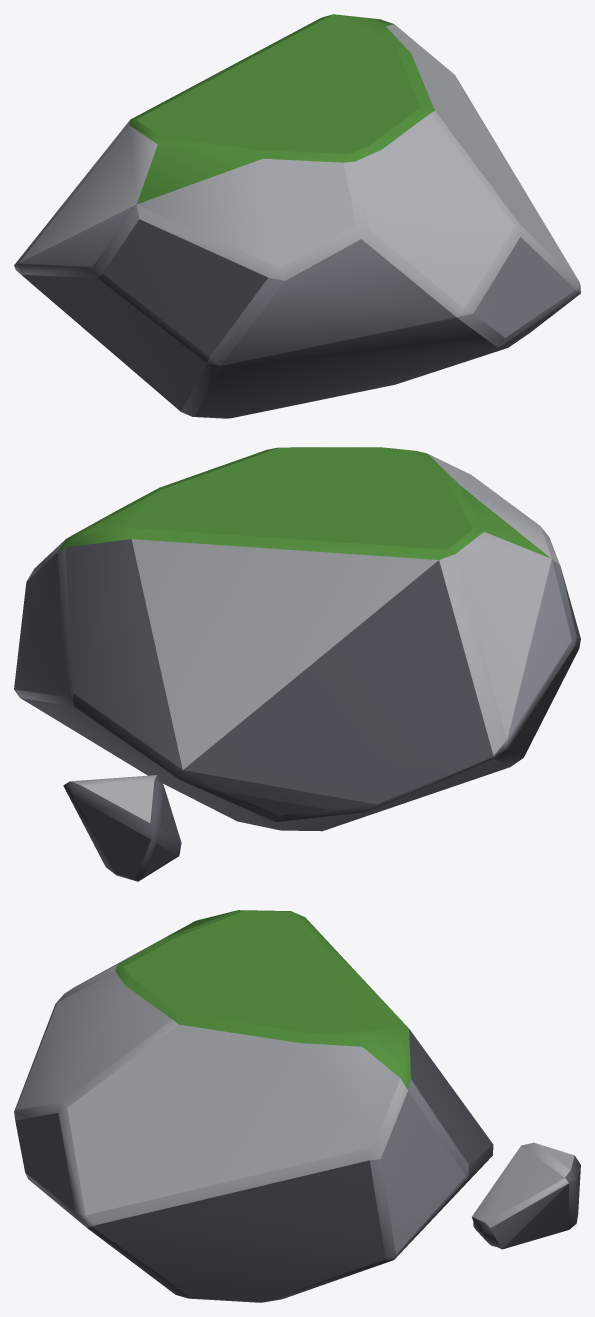
File: Boulder_06.glb
The picture shows the model from 3 angles, top to bottom: view 1: azimuth 30°, elevation 25°; view 2: azimuth 150°, elevation 25°; view 3: azimuth 270°, elevation 25°; orthographic projection. The views are drawn at different scales.
Visible parts, largest first — view 1: Boulder_06; view 2: Boulder_06; view 3: Boulder_06.
Boxes of the visible parts, x1,y1,x2,y2 form: Boulder_06: [14, 14, 580, 418]; Boulder_06: [14, 447, 580, 881]; Boulder_06: [14, 910, 580, 1302].
Size of the model in its own units: 4.31 by 2.3 by 4.94.
